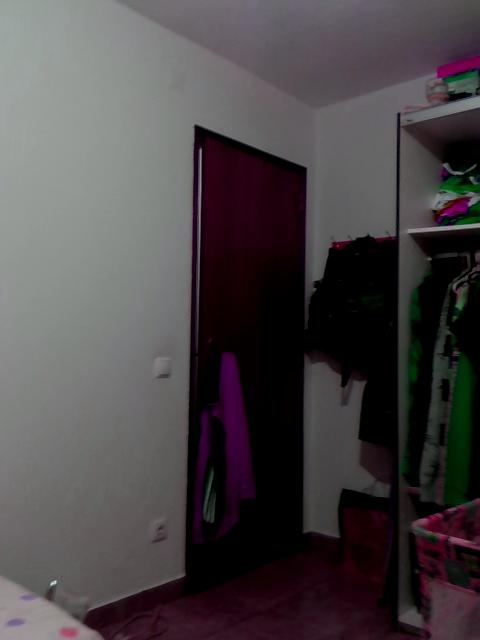closed_door: (185, 122, 308, 593)
